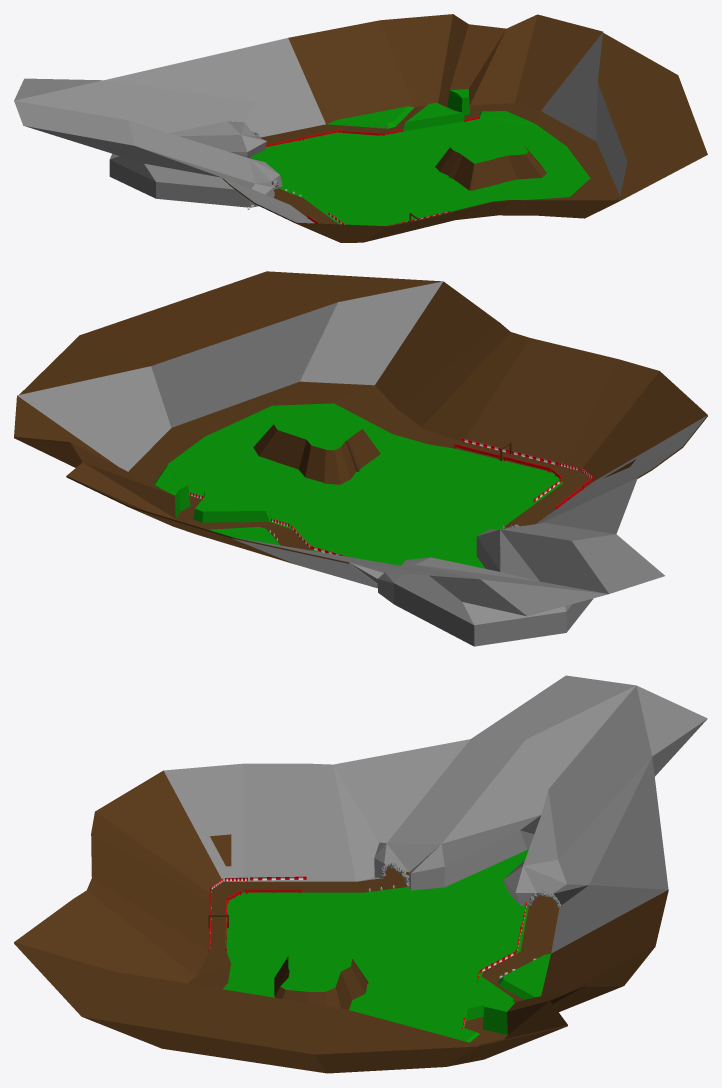
File: track.fbx
The picture shows the model from 3 angles, top to bottom: view 1: azimuth 30°, elevation 25°; view 2: azimuth 150°, elevation 25°; view 3: azimuth 270°, elevation 25°; orthographic projection. The views are drawn at different scales.
Parts seen in each view (by area): view 1: Track; view 2: Track; view 3: Track.
Part boxes in pixels (x1=…): Track: x1=14, y1=14, x2=707, y2=242; Track: x1=14, y1=271, x2=707, y2=646; Track: x1=14, y1=675, x2=707, y2=1073.
Bounding box in the file's own units: 106686 × 13210 × 87343.
